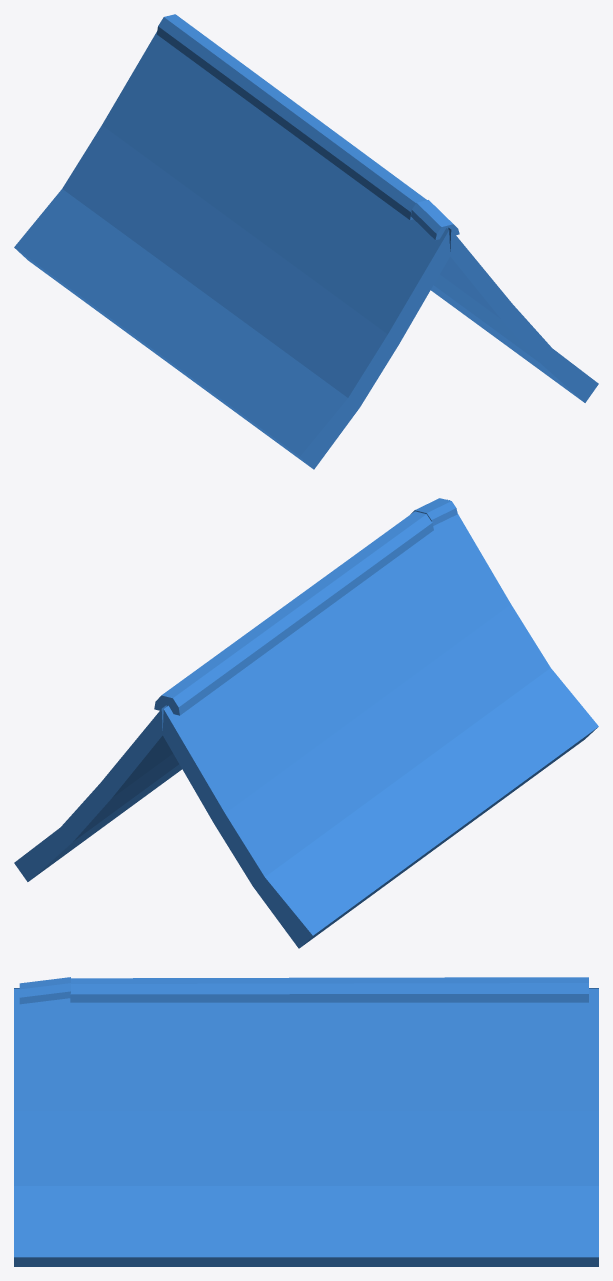
The model's file is Collision_Roof_RoundTiles_6x12.fbx.
The picture shows the model from 3 angles, top to bottom: view 1: azimuth 30°, elevation 25°; view 2: azimuth 150°, elevation 25°; view 3: azimuth 270°, elevation 25°; orthographic projection. The views are drawn at different scales.
Parts seen in each view (by area): view 1: UCX_Roof_RoundTiles_6x12_01; view 2: UCX_Roof_RoundTiles_6x12_01; view 3: UCX_Roof_RoundTiles_6x12_01.
Boxes of the visible parts, x1,y1,x2,y2 form: UCX_Roof_RoundTiles_6x12_01: (14,14,598,469); UCX_Roof_RoundTiles_6x12_01: (14,498,598,948); UCX_Roof_RoundTiles_6x12_01: (14,977,598,1266).
Bounding box in the file's own units: 829 × 570 × 1373.
